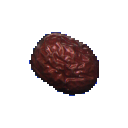gd: (19, 25, 108, 104)
